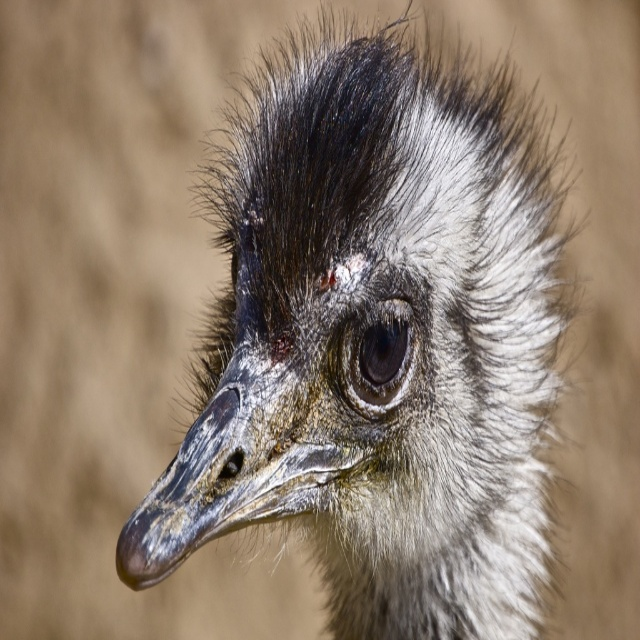Ostrich: (115, 0, 596, 640)
